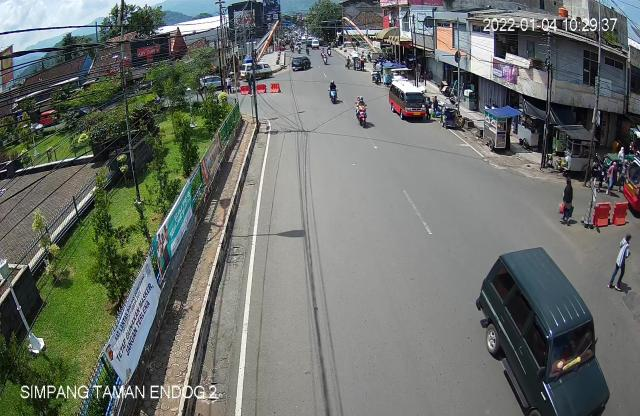Mobil: (473, 245, 613, 416), (384, 78, 432, 124)
Motor: (353, 88, 371, 130), (324, 75, 344, 106)
